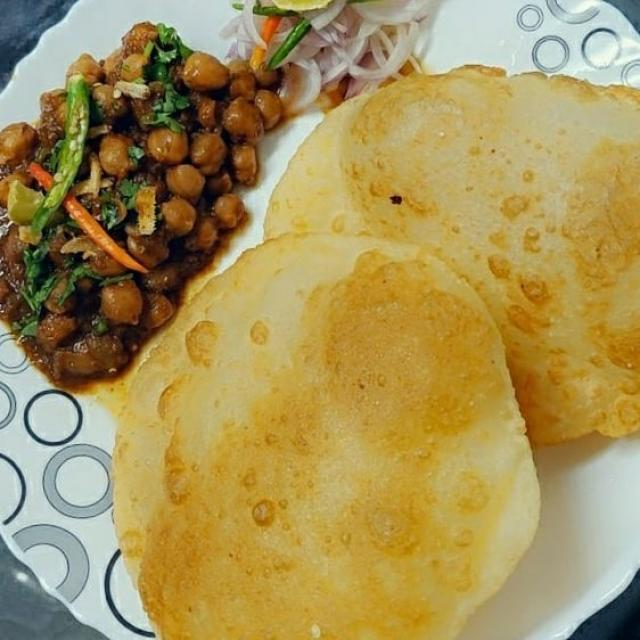Chole: (15, 56, 257, 328)
